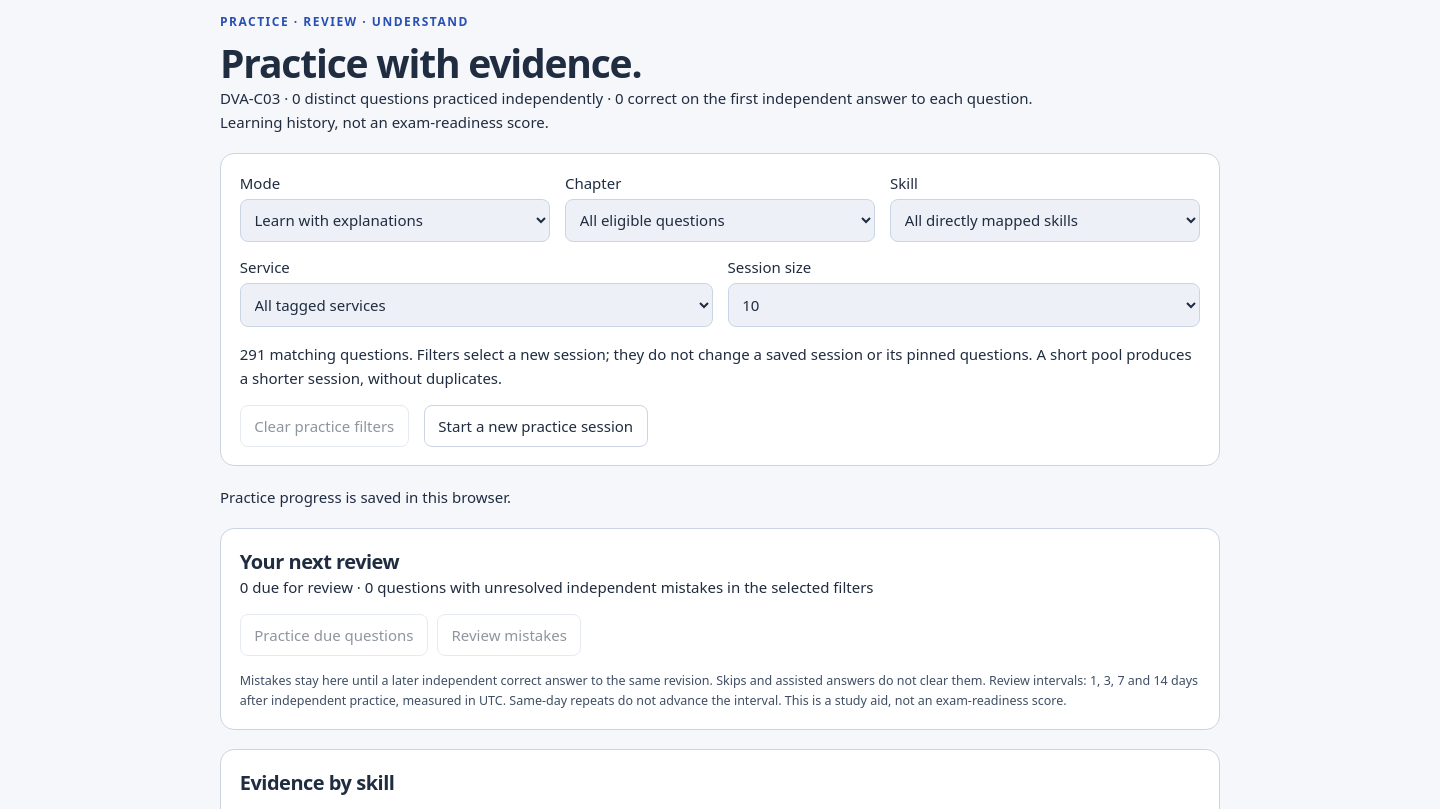
it: keeps temporary sessions visible after quota failure and never reports a successful save
expect the text "Practice progress is saved in this browser." is shown: met, box [220,487,511,507]
Click the button "Start a new practice session".
click(536, 426)  # box [424,404,648,446]
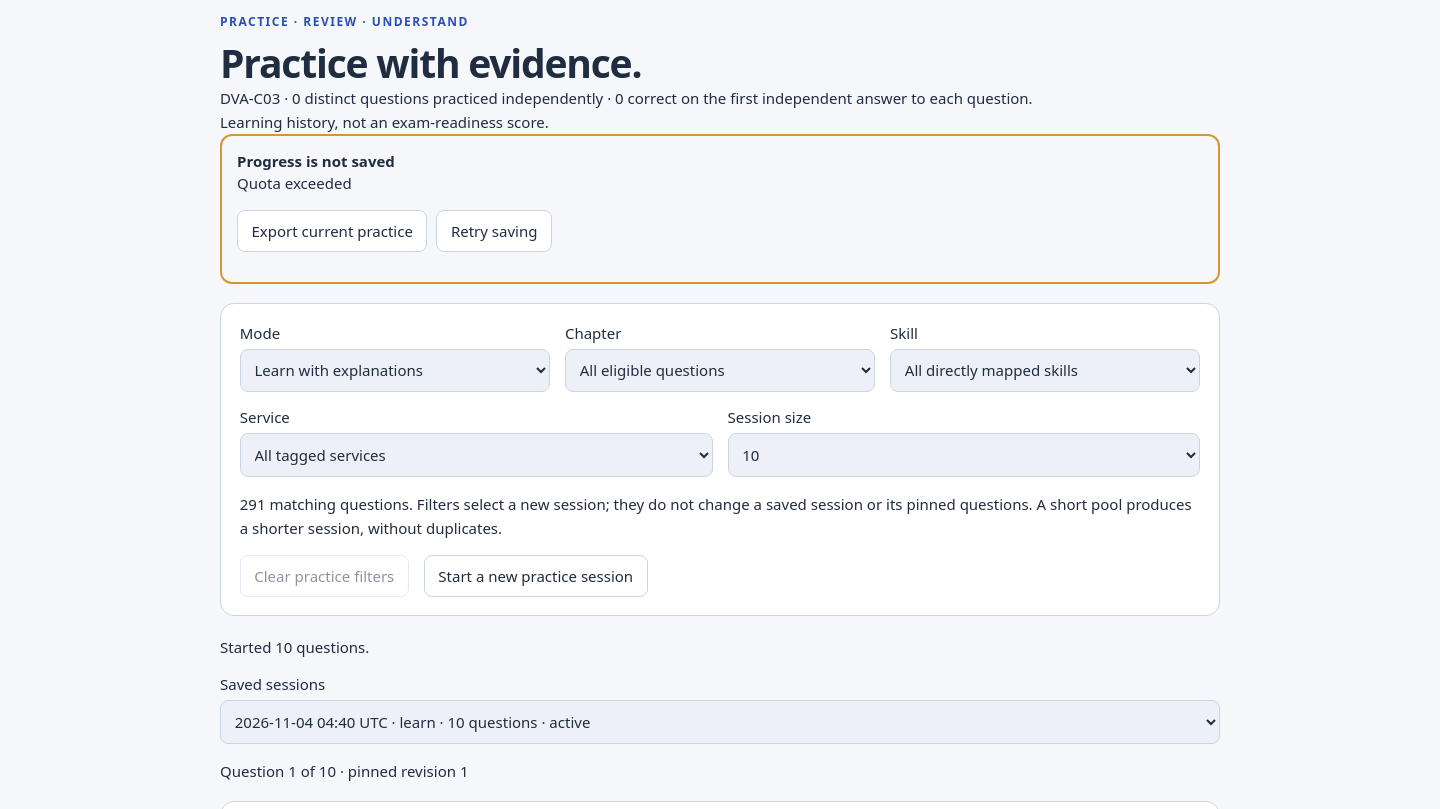
expect the text "Quota exceeded" is shown: met, box [237,173,352,193]
expect the message "Progress is not saved Quota exceeded Export current practice Retry saving" is shown: met, box [220,134,1220,284]
expect the button "Export current practice" is shown: met, box [237,210,427,252]
